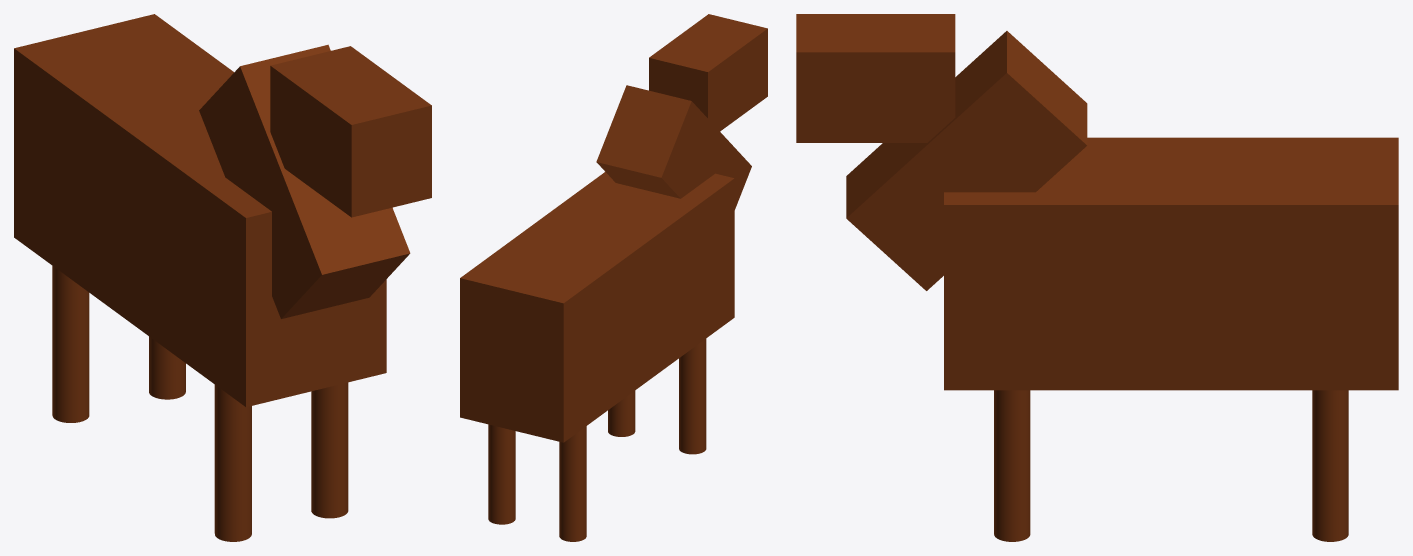
File: horse.glb
3 renders of one model, left to right at view 1: azimuth 30°, elevation 25°; view 2: azimuth 150°, elevation 25°; view 3: azimuth 270°, elevation 25°, orthographic. The views are drawn at different scales.
Size of the model in its own units: 0.2642 by 0.8755 by 1.
